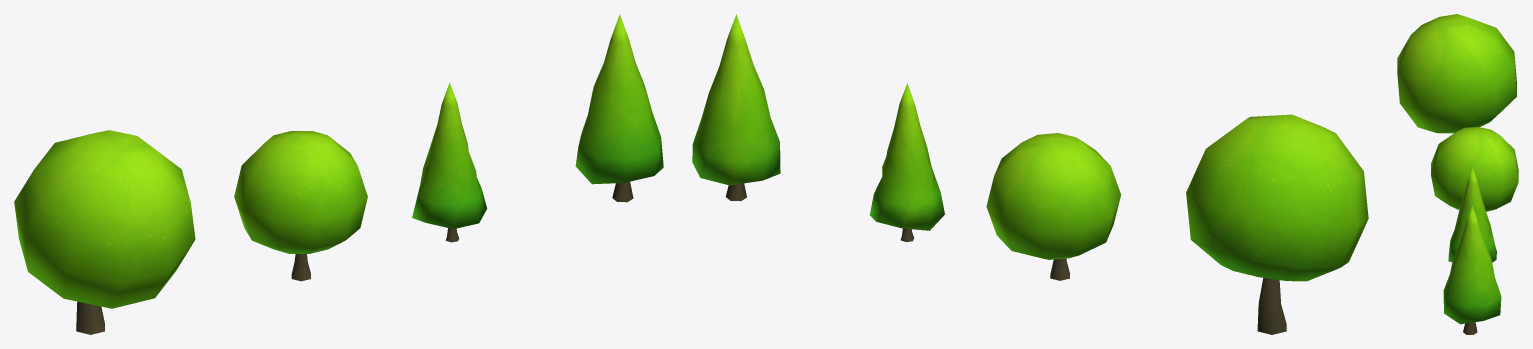
File: Trees.fbx
The picture shows the model from 3 angles, left to right: view 1: azimuth 30°, elevation 25°; view 2: azimuth 150°, elevation 25°; view 3: azimuth 270°, elevation 25°; orthographic projection. The views are drawn at different scales.
Visible parts, largest first — view 1: Tree_1, Tree_2, Tree_4, Tree_3; view 2: Tree_1, Tree_2, Tree_4, Tree_3; view 3: Tree_1, Tree_2, Tree_4, Tree_3.
Boxes of the visible parts, x1,y1,x2,y2 form: Tree_1: [14, 130, 195, 334]; Tree_2: [234, 131, 367, 281]; Tree_4: [575, 14, 663, 202]; Tree_3: [412, 82, 487, 242]; Tree_1: [1186, 114, 1368, 334]; Tree_2: [986, 133, 1120, 280]; Tree_4: [692, 14, 780, 201]; Tree_3: [869, 83, 944, 242]; Tree_1: [1397, 14, 1516, 133]; Tree_2: [1431, 127, 1518, 211]; Tree_4: [1443, 206, 1501, 334]; Tree_3: [1448, 167, 1496, 262].
Bounding box in the file's own units: 21.68 × 6.29 × 5.17.
Materials: 1 (1 with a texture image).
